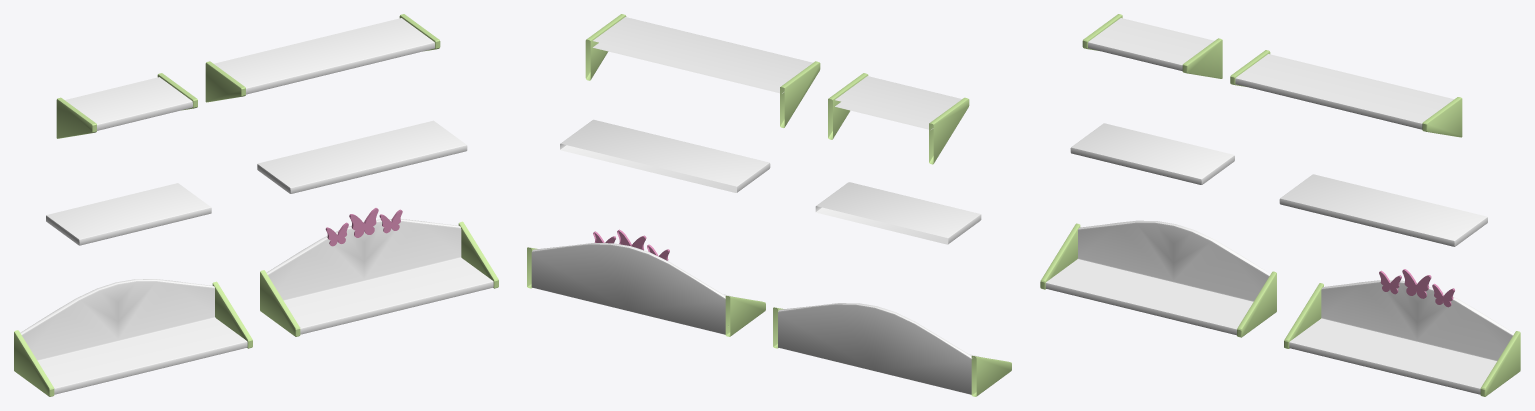
File: Bedroom_Shelfs.FBX
The picture shows the model from 3 angles, left to right: view 1: azimuth 30°, elevation 25°; view 2: azimuth 150°, elevation 25°; view 3: azimuth 330°, elevation 25°; orthographic projection.
Parts seen in each view (by area): view 1: Bedroom_Shelf_Large_02, Bedroom_Shelf_Large, Bedroom_Shelf_Medium_02, Bedroom_Shelf_Medium, Bedroom_Shelf_Small, Bedroom_Shelf_Small_02; view 2: Bedroom_Shelf_Large_02, Bedroom_Shelf_Large, Bedroom_Shelf_Medium_02, Bedroom_Shelf_Medium, Bedroom_Shelf_Small_02, Bedroom_Shelf_Small; view 3: Bedroom_Shelf_Large_02, Bedroom_Shelf_Large, Bedroom_Shelf_Medium_02, Bedroom_Shelf_Medium, Bedroom_Shelf_Small, Bedroom_Shelf_Small_02.
Part boxes in pixels (left/top/right/bottom): Bedroom_Shelf_Large_02: left=260, top=208, right=498, bottom=336; Bedroom_Shelf_Large: left=14, top=279, right=252, bottom=396; Bedroom_Shelf_Medium_02: left=205, top=14, right=440, bottom=102; Bedroom_Shelf_Medium: left=257, top=120, right=467, bottom=193; Bedroom_Shelf_Small: left=46, top=183, right=211, bottom=245; Bedroom_Shelf_Small_02: left=56, top=73, right=197, bottom=138; Bedroom_Shelf_Large_02: left=527, top=229, right=765, bottom=336; Bedroom_Shelf_Large: left=773, top=303, right=1011, bottom=396; Bedroom_Shelf_Medium_02: left=585, top=14, right=820, bottom=127; Bedroom_Shelf_Medium: left=560, top=119, right=770, bottom=192; Bedroom_Shelf_Small_02: left=828, top=73, right=969, bottom=164; Bedroom_Shelf_Small: left=815, top=182, right=981, bottom=244; Bedroom_Shelf_Large_02: left=1284, top=269, right=1520, bottom=396; Bedroom_Shelf_Large: left=1040, top=220, right=1276, bottom=337; Bedroom_Shelf_Medium_02: left=1230, top=50, right=1462, bottom=137; Bedroom_Shelf_Medium: left=1279, top=174, right=1487, bottom=246; Bedroom_Shelf_Small: left=1070, top=123, right=1234, bottom=184; Bedroom_Shelf_Small_02: left=1082, top=14, right=1222, bottom=78.
Size of the model in its own units: 158 by 88.07 by 21.7.
3 materials, 3 textured.
